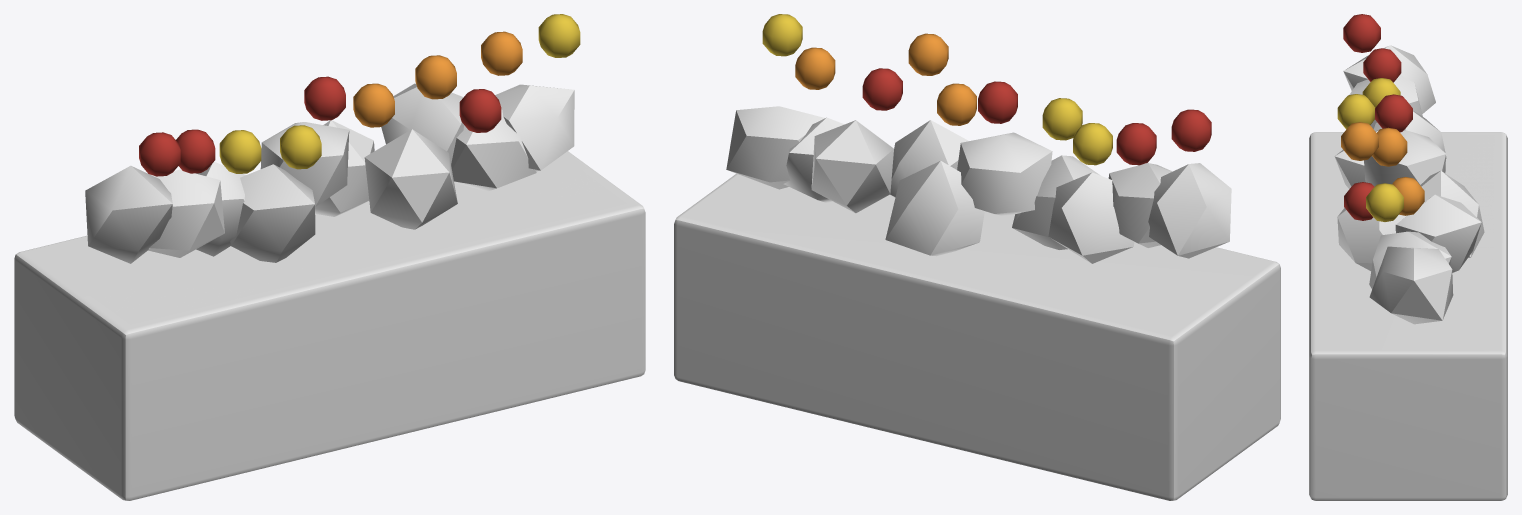
The model's file is SM_Porch_Planter.fbx.
3 views of the same model, side by side, from view 1: azimuth 30°, elevation 25°; view 2: azimuth 150°, elevation 25°; view 3: azimuth 270°, elevation 25° (orthographic). The views are drawn at different scales.
Visible parts, largest first — view 1: SM_Porch_Planter_1; view 2: SM_Porch_Planter_1; view 3: SM_Porch_Planter_1.
Part boxes in pixels (x1,y1,x2,y2): SM_Porch_Planter_1: [14, 14, 645, 500]; SM_Porch_Planter_1: [674, 14, 1280, 500]; SM_Porch_Planter_1: [1309, 14, 1507, 500].
Bounding box in the file's own units: 80 × 50.23 × 30.
